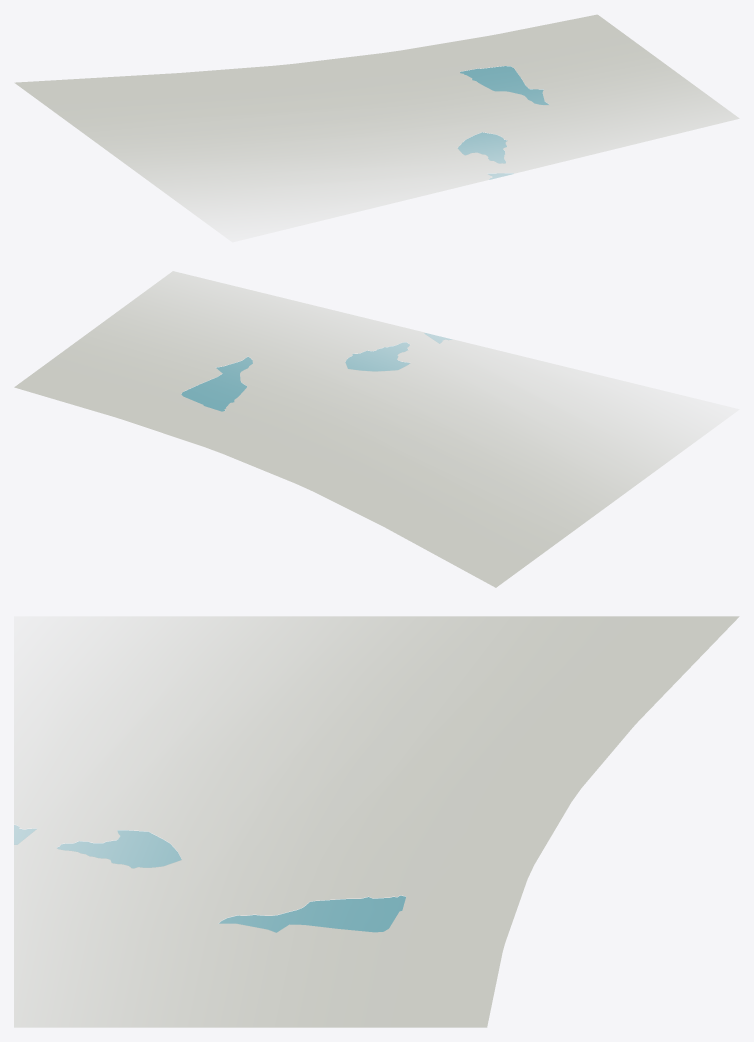
3 views of the same model, one above another, from view 1: azimuth 30°, elevation 25°; view 2: azimuth 150°, elevation 25°; view 3: azimuth 270°, elevation 25° (orthographic). The views are drawn at different scales.
Parts seen in each view (by area): view 1: city; view 2: city; view 3: city.
Part boxes in pixels (<box>): city: <box>14,14,739,241</box>; city: <box>14,271,738,587</box>; city: <box>14,616,739,1027</box>.
Size of the model in its own units: 500 by 0.18 by 373.
